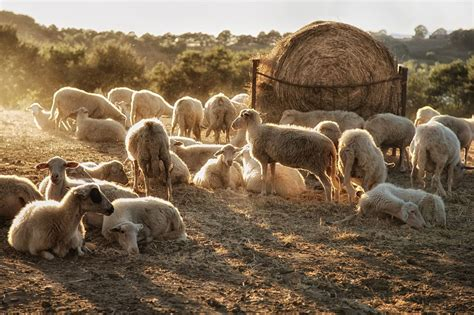sheep: (230, 107, 342, 205), (7, 182, 116, 259), (35, 154, 139, 223), (102, 195, 189, 253), (352, 179, 447, 228), (409, 119, 465, 200), (124, 117, 178, 200), (48, 84, 129, 135), (342, 129, 393, 206), (236, 145, 308, 197), (362, 109, 417, 177), (431, 107, 474, 173), (193, 143, 241, 189), (199, 92, 238, 146), (72, 106, 127, 142), (130, 87, 177, 129), (169, 94, 207, 141), (26, 102, 80, 134)
